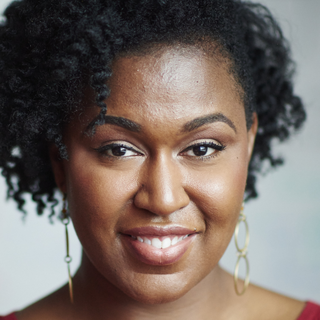eye: (94, 139, 146, 163), (179, 138, 226, 163)
